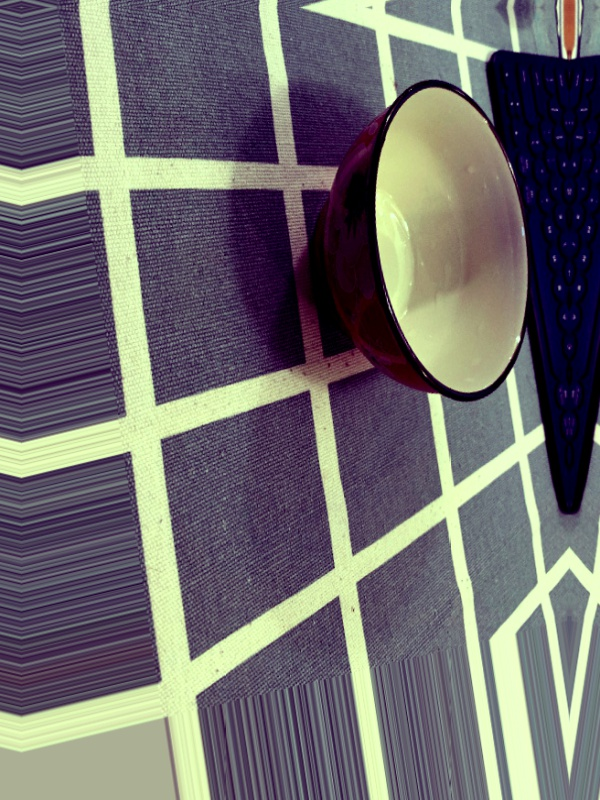bowl_small: (281, 51, 555, 440)
